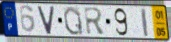6: (19, 4, 37, 37)
9: (113, 7, 130, 37)
I: (140, 7, 150, 38)
Q: (62, 5, 85, 37)
R: (83, 6, 107, 36)
V: (36, 5, 56, 36)
